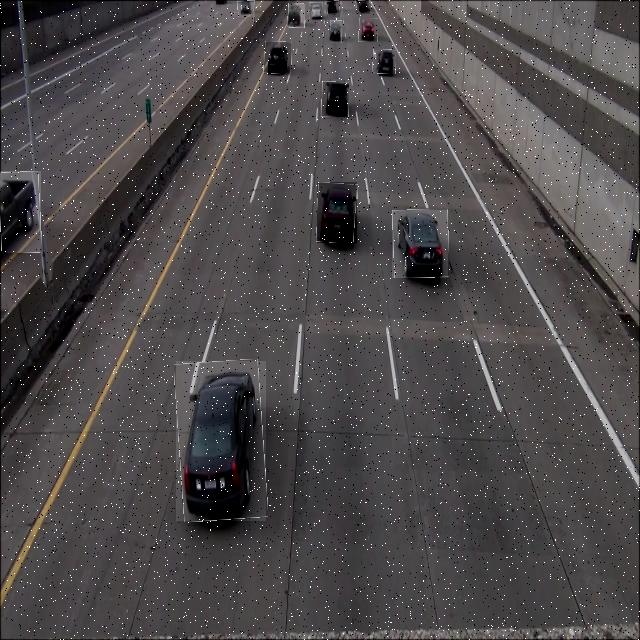Car: (176, 361, 266, 521), (392, 210, 448, 278), (318, 182, 358, 243), (322, 82, 349, 117), (264, 42, 291, 74), (373, 50, 396, 74), (359, 18, 378, 42), (288, 4, 305, 28), (237, 0, 255, 17), (330, 20, 342, 43), (309, 2, 323, 19), (327, 0, 340, 17), (356, 0, 370, 14)
Truck: (0, 171, 41, 253)
